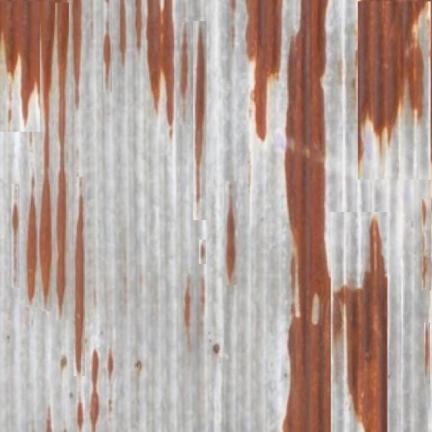karat: (283, 0, 331, 431), (333, 219, 387, 431), (358, 2, 426, 163), (0, 0, 87, 125), (248, 0, 281, 138), (42, 102, 58, 122)
